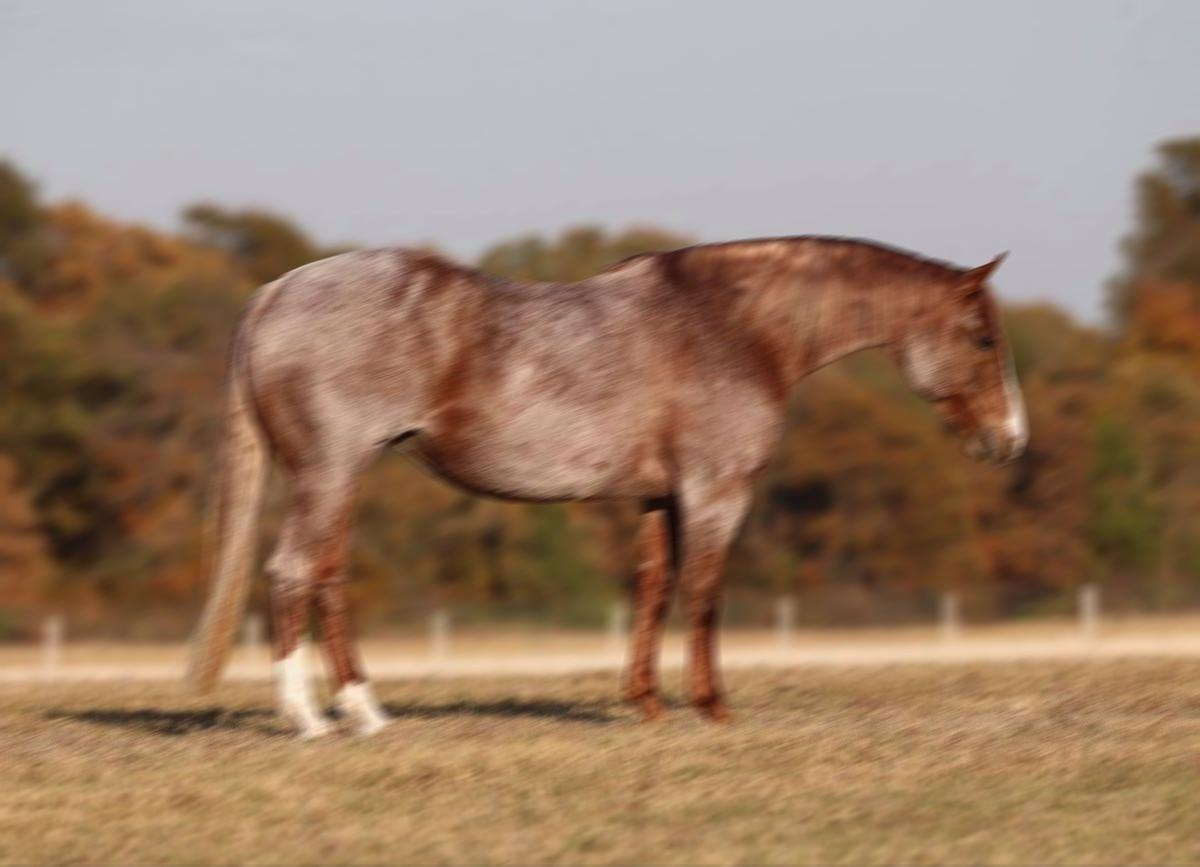horse: (179, 234, 1026, 740)
